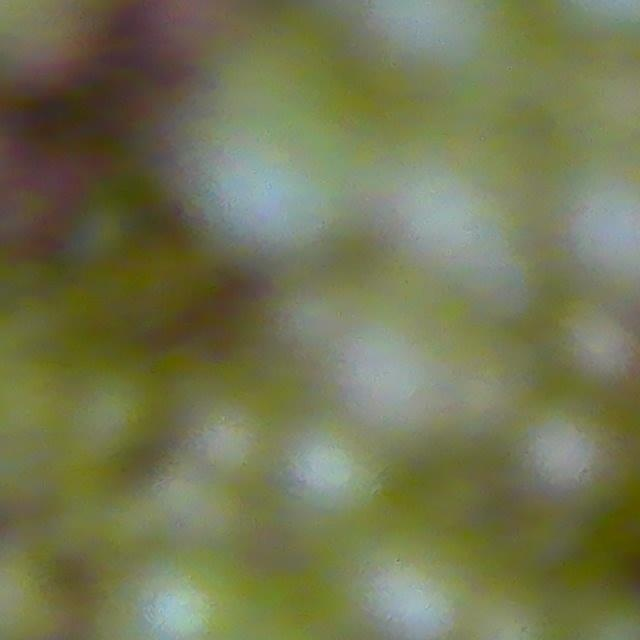SeaGrape: (155, 29, 342, 255), (344, 516, 478, 640), (114, 536, 250, 640), (277, 416, 385, 526), (516, 400, 624, 504), (176, 379, 281, 482), (550, 305, 640, 391)
